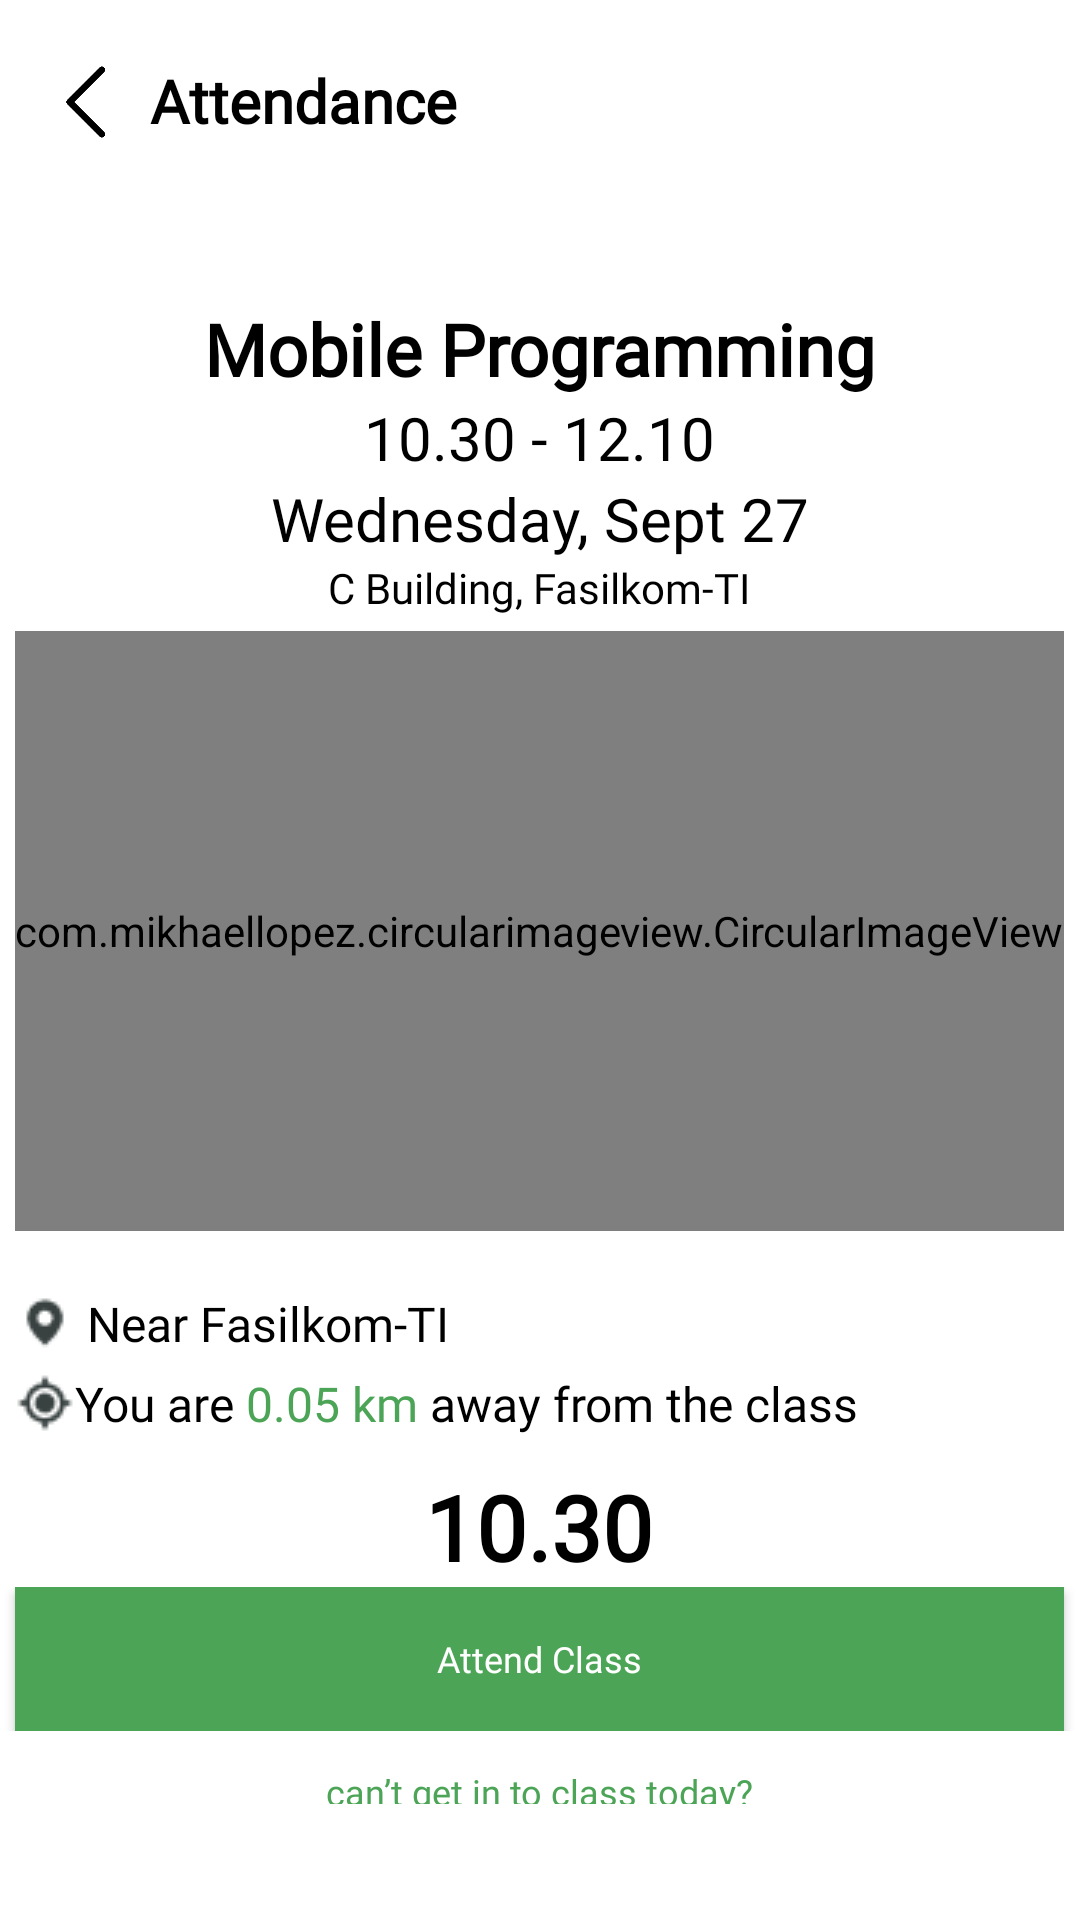

Locate icon controls on the screen. Image size 1080 x 1920, boxes as [x1,y1,x2,y2].
back: [66,66,105,138]
